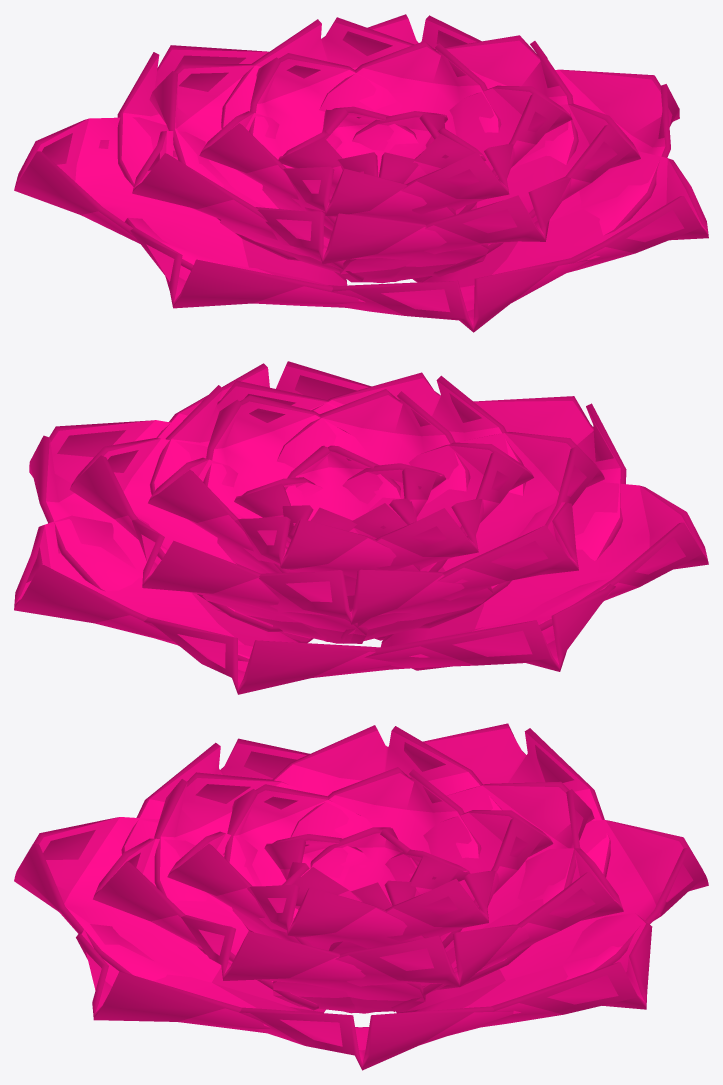
File: garden-rose-bloom-head-0-ff0088.glb
3 renders of one model, top to bottom at view 1: azimuth 30°, elevation 25°; view 2: azimuth 150°, elevation 25°; view 3: azimuth 270°, elevation 25°, orthographic. The views are drawn at different scales.
Parts seen in each view (by area): view 1: rose-bloom-head-0-ff0088; view 2: rose-bloom-head-0-ff0088; view 3: rose-bloom-head-0-ff0088.
Boxes of the visible parts, box(x1,y1,x2,y2) form: rose-bloom-head-0-ff0088: box(14, 14, 708, 332); rose-bloom-head-0-ff0088: box(14, 361, 708, 694); rose-bloom-head-0-ff0088: box(14, 723, 708, 1070).
Bounding box in the file's own units: 0.1476 × 0.0456 × 0.1464.
